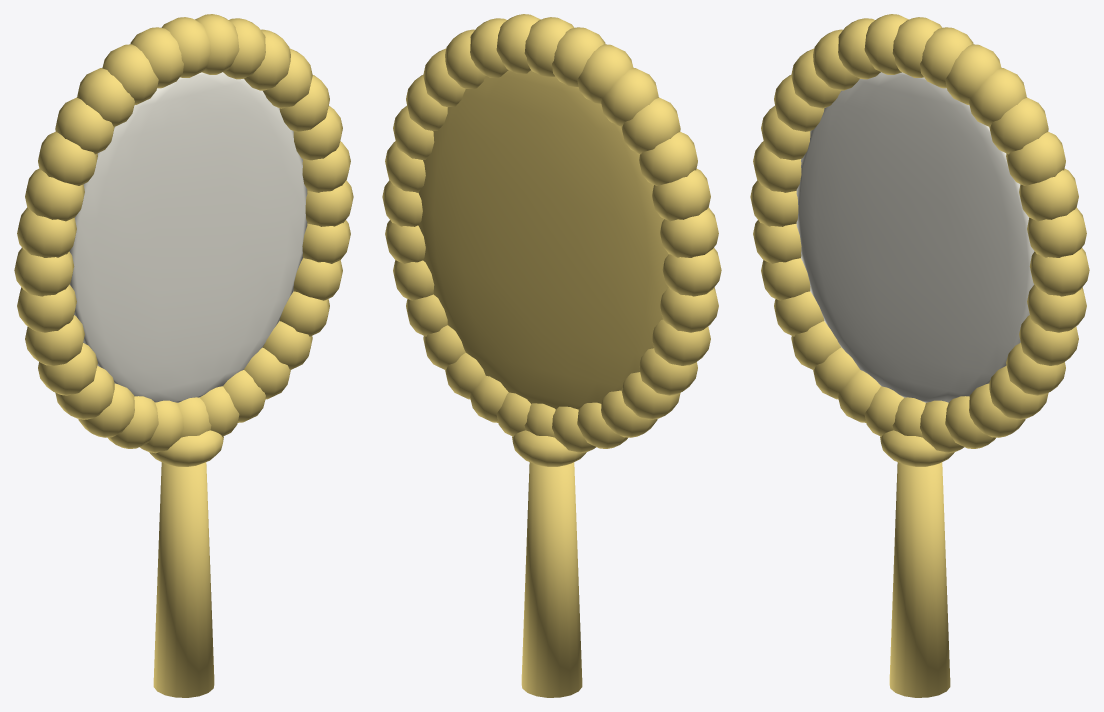
Rendered from golden-mirror.glb.
3 views of the same model, side by side, from view 1: azimuth 30°, elevation 25°; view 2: azimuth 150°, elevation 25°; view 3: azimuth 330°, elevation 25° (orthographic).
Parts seen in each view (by area): view 1: mirror_frame, mirror_glass; view 2: mirror_frame; view 3: mirror_frame, mirror_glass.
Part boxes in pixels (x1=…): mirror_frame: x1=14, y1=14, x2=353, y2=697; mirror_glass: x1=69, y1=72, x2=307, y2=402; mirror_frame: x1=382, y1=14, x2=721, y2=697; mirror_frame: x1=750, y1=14, x2=1089, y2=697; mirror_glass: x1=796, y1=72, x2=1034, y2=402.
Bounding box in the file's own units: 0.5199 × 1 × 0.11.
